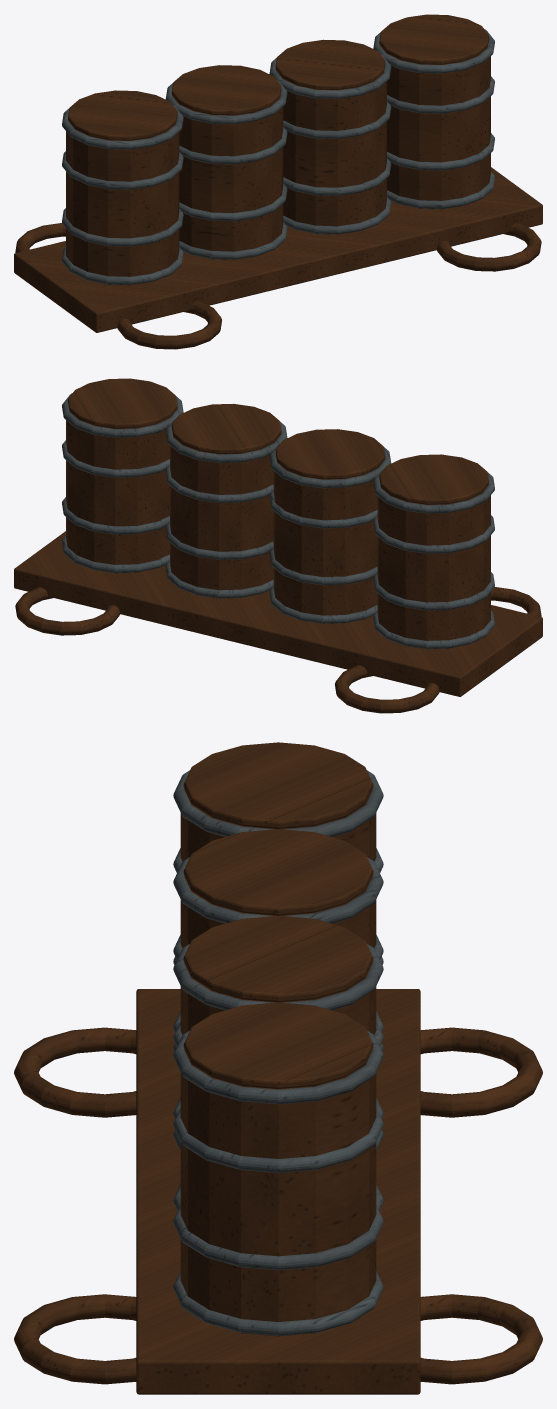
File: PROP-77A6C5843E47_lod0.glb
The picture shows the model from 3 angles, top to bottom: view 1: azimuth 30°, elevation 25°; view 2: azimuth 150°, elevation 25°; view 3: azimuth 270°, elevation 25°; orthographic projection. The views are drawn at different scales.
Parts seen in each view (by area): view 1: barrel_body.003, wagon_deck, barrel_lid.003, barrel_ribs.003, wagon_wheels; view 2: barrel_body.003, wagon_deck, barrel_lid.003, barrel_ribs.003, wagon_wheels; view 3: barrel_lid.003, wagon_deck, barrel_body.003, wagon_wheels, barrel_ribs.003.
Part boxes in pixels (x1,y1,x2,y2): barrel_body.003: (66, 45, 490, 285); wagon_deck: (14, 167, 542, 332); barrel_lid.003: (68, 14, 488, 140); barrel_ribs.003: (62, 29, 494, 284); wagon_wheels: (15, 223, 541, 349); barrel_body.003: (66, 409, 490, 649); wagon_deck: (14, 531, 542, 696); barrel_lid.003: (68, 378, 488, 504); barrel_ribs.003: (62, 393, 494, 648); wagon_wheels: (15, 587, 541, 713); barrel_lid.003: (183, 742, 373, 1088); wagon_deck: (136, 989, 420, 1394); barrel_body.003: (180, 789, 376, 1336); wagon_wheels: (14, 1027, 542, 1384); barrel_ribs.003: (173, 770, 383, 1335).
Bounding box in the file's own units: 2.8 × 1.07 × 1.68.
2 materials, 2 textured.
